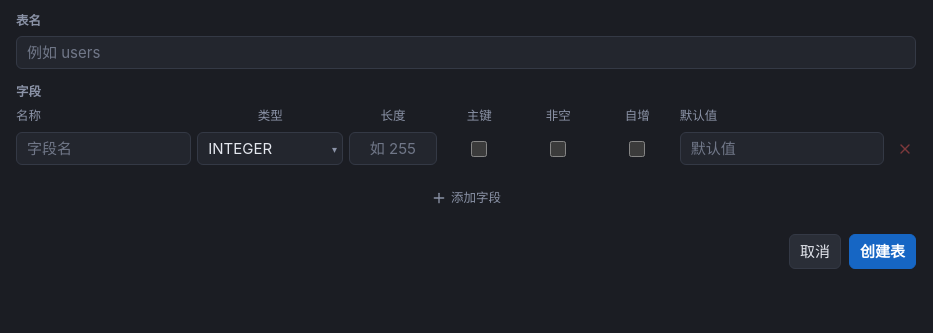
Test: 创建表 › 未连接时拦截并提示
Type "users" into the field with id "tbl-name" at (466,52), box x1=16 y1=36 x2=916 y2=69
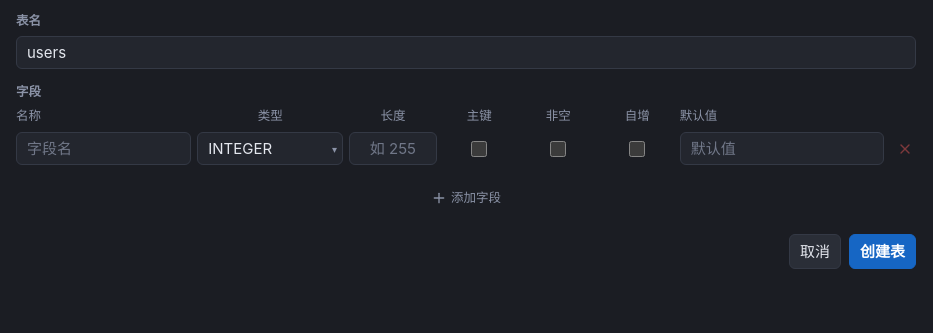
Type "id" into the field with placeholder "字段名" at (104,149), box x1=16 y1=132 x2=191 y2=165
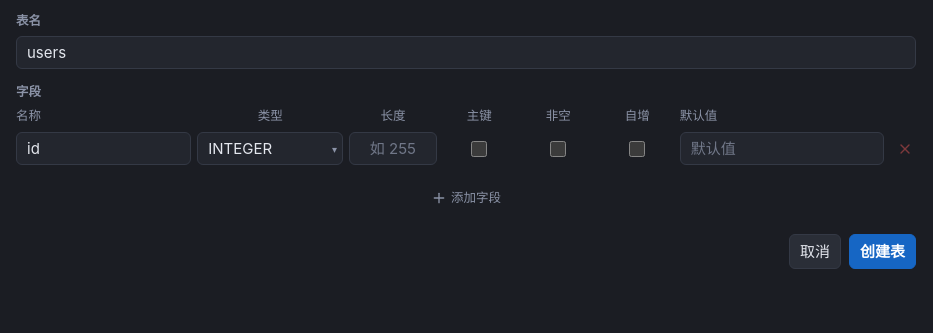
Click the button "创建表" at (882,251), box x1=849 y1=234 x2=916 y2=269
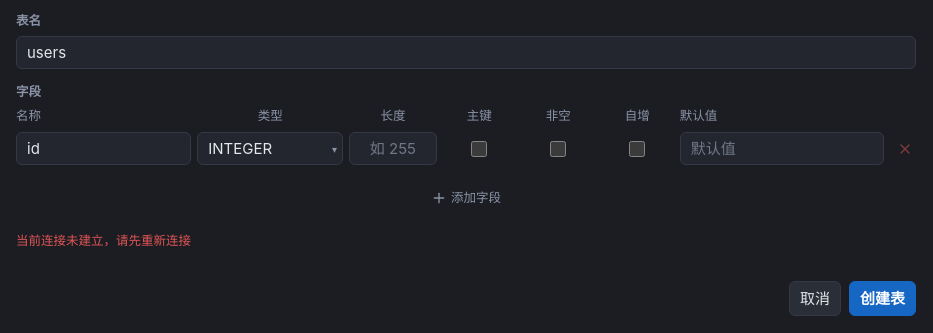
Now the text with class "field-error" shows "未建立", box x1=16 y1=233 x2=191 y2=248
